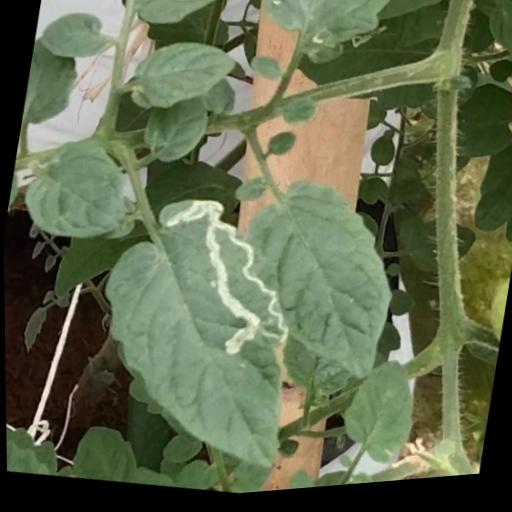Healthy: (224, 168, 411, 401), (11, 127, 136, 254), (332, 354, 422, 478), (35, 2, 115, 69), (467, 144, 512, 246)
Leaf_Miner: (72, 177, 323, 490)
